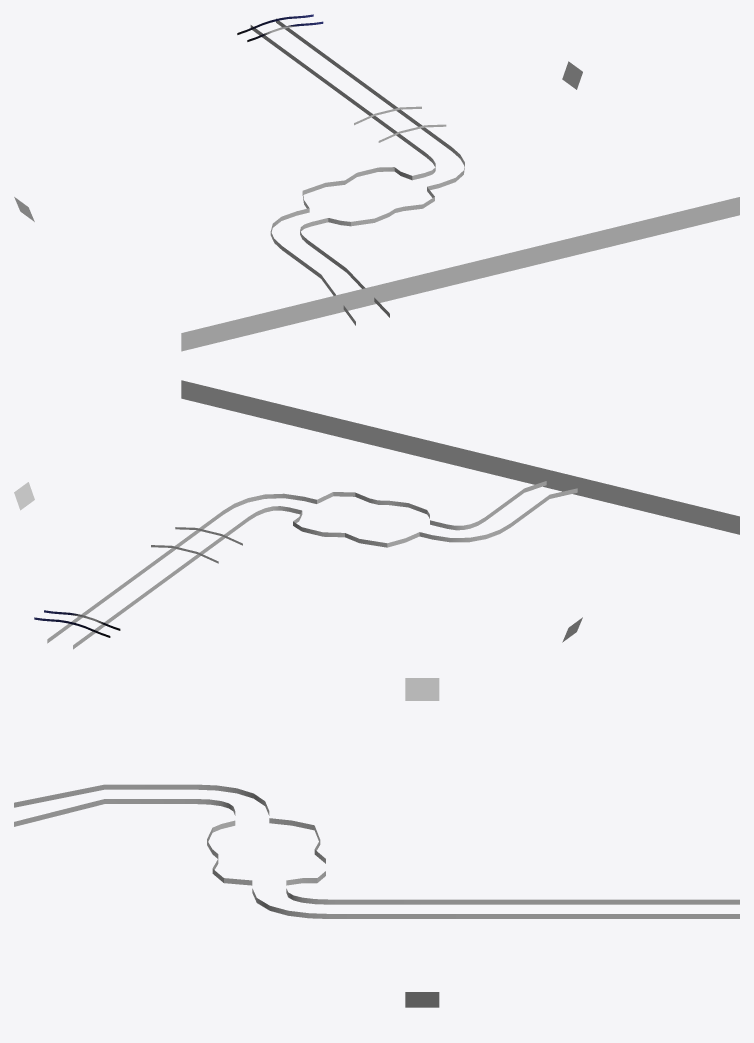
File: island_blocker.fbx
The picture shows the model from 3 angles, top to bottom: view 1: azimuth 30°, elevation 25°; view 2: azimuth 150°, elevation 25°; view 3: azimuth 270°, elevation 25°; orthographic projection. The views are drawn at different scales.
Parts seen in each view (by area): view 1: island-8x7_blocker-colonly; view 2: island-8x7_blocker-colonly; view 3: island-8x7_blocker-colonly.
Part boxes in pixels (x1,y1,x2,y2): island-8x7_blocker-colonly: (14,14,739,351); island-8x7_blocker-colonly: (14,380,739,649); island-8x7_blocker-colonly: (14,678,739,1007).
Size of the model in its own units: 4224 by 248 by 4096.
